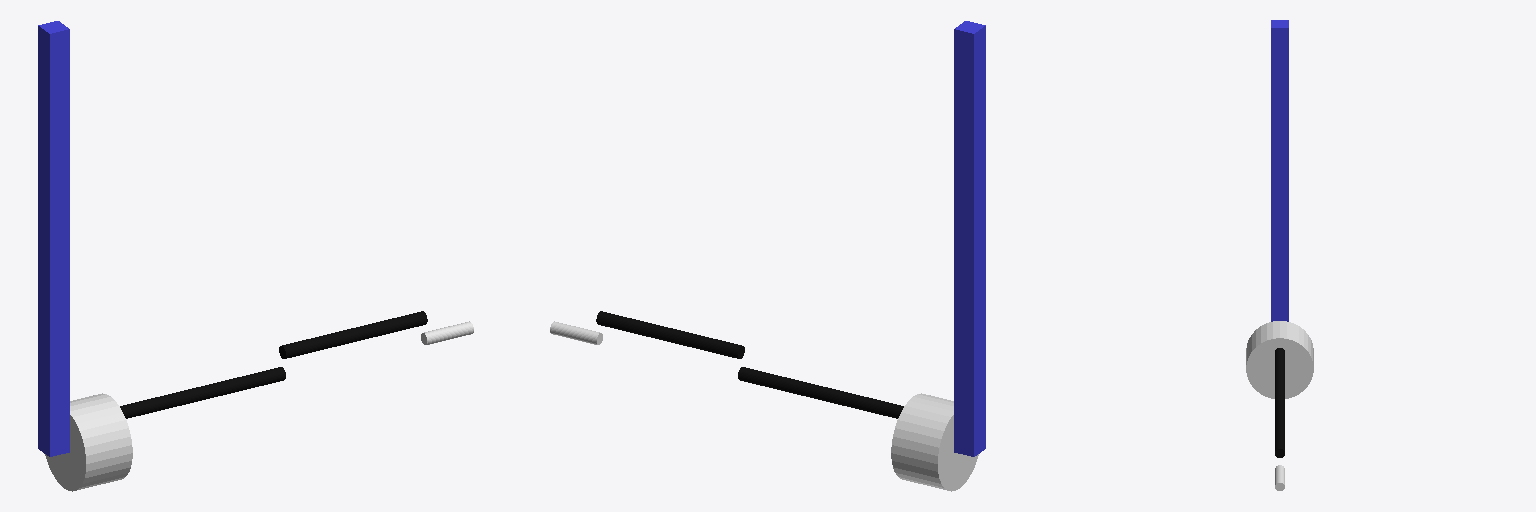
The robot description file, URDF, robot "test_setup1":
<?xml version="1.0" ?>
<!-- =================================================================================== -->
<!-- |    This document was autogenerated by xacro from test_setup2.urdf.xacro         | -->
<!-- |    EDITING THIS FILE BY HAND IS NOT RECOMMENDED                                 | -->
<!-- =================================================================================== -->
<robot name="test_setup1" xmlns:xacro="http://www.ros.org/wiki/xacro">
  <link name="base_link"/>
  <link name="frame">
    <visual>
      <geometry>
        <box size="0.050 0.050 1.0"/>
      </geometry>
      <origin rpy="0 0 0" xyz="-0.025 0 0.5"/>
      <material name="steel">
        <color rgba="0.3 0.3 0.9 1"/>
      </material>
    </visual>
    <collision>
      <geometry>
        <box size="0.055 0.055 1.005"/>
      </geometry>
      <origin rpy="0 0 0" xyz="-0.025 0 0.5"/>
    </collision>
  </link>
  <link name="dummy"/>
  <joint name="base_link_joint" type="fixed">
    <parent link="base_link"/>
    <child link="frame"/>
  </joint>
  <joint name="base_joint" type="prismatic">
    <parent link="frame"/>
    <child link="dummy"/>
    <origin rpy="0 0 0" xyz="0 0 0"/>
    <axis xyz="0 0 1"/>
    <limit effort="1000.0" lower="0" upper="1.0" velocity="0.5"/>
  </joint>
  <create/>
  <link name="base">
    <visual>
      <geometry>
        <cylinder length="0.115" radius="0.095"/>
      </geometry>
      <origin rpy="0 1.57079632679 0" xyz="0.0575 0 0"/>
      <material name="aluminium">
        <color rgba="0.9 0.9 0.9 1"/>
      </material>
    </visual>
    <collision>
      <geometry>
        <cylinder length="0.0575" radius="0.1"/>
      </geometry>
      <origin rpy="0 1.57079632679 0" xyz="0.115 0 0"/>
    </collision>
  </link>
  <link name="arm">
    <visual>
      <geometry>
        <cylinder length="0.425" radius="0.015"/>
      </geometry>
      <origin rpy="0 1.57079632679 0" xyz="0.2125 0 0"/>
      <material name="carbon">
        <color rgba="0.1 0.1 0.1 1"/>
      </material>
    </visual>
    <collision>
      <geometry>
        <cylinder length="0.425" radius="0.02"/>
      </geometry>
      <origin rpy="0 1.57079632679 0" xyz="0.2125 0 0"/>
    </collision>
  </link>
  <link name="fore_arm">
    <visual>
      <geometry>
        <cylinder length="0.35" radius="0.015"/>
      </geometry>
      <origin rpy="0 1.57079632679 0" xyz="0.175 0 0"/>
      <material name="carbon"/>
    </visual>
    <collision>
      <geometry>
        <cylinder length="0.35" radius="0.02"/>
      </geometry>
      <origin rpy="0 1.57079632679 0" xyz="0.175 0 0"/>
    </collision>
  </link>
  <link name="effector">
    <visual>
      <geometry>
        <cylinder length="0.115" radius="0.014"/>
      </geometry>
      <origin rpy="0 1.57079632679 0" xyz="0.0575 0 0"/>
      <material name="aluminium"/>
    </visual>
    <collision>
      <geometry>
        <cylinder length="0.115" radius="0.019"/>
      </geometry>
      <origin rpy="0 1.57079632679 0" xyz="0.0575 0 0"/>
    </collision>
  </link>
  <link name="tool0"/>
  <joint name="mounting" type="fixed">
    <parent link="dummy"/>
    <child link="base"/>
  </joint>
  <joint name="shoulder" type="revolute">
    <parent link="base"/>
    <child link="arm"/>
    <origin rpy="0 0 0" xyz="0.115 0 0.05"/>
    <axis xyz="0 0 1"/>
    <limit effort="1000.0" lower="-2.35619449019" upper="2.35619449019" velocity="0.5"/>
  </joint>
  <joint name="elbow" type="revolute">
    <parent link="arm"/>
    <child link="fore_arm"/>
    <origin rpy="0 0 0" xyz="0.425 0 0.05"/>
    <axis xyz="0 0 1"/>
    <limit effort="1000.0" lower="-2.98" upper="2.98" velocity="0.5"/>
  </joint>
  <joint name="wrist" type="revolute">
    <parent link="fore_arm"/>
    <child link="effector"/>
    <origin rpy="0 0 0" xyz="0.35 0 -0.05"/>
    <axis xyz="0 0 1"/>
    <limit effort="1000.0" lower="-2.98" upper="2.98" velocity="0.5"/>
  </joint>
  <joint name="joint_tool" type="fixed">
    <parent link="effector"/>
    <child link="tool0"/>
    <origin rpy="0 0 0" xyz="0 0 0"/>
  </joint>
</robot>

--- Facts derived from the render (not from the file) ---
Views: 3 orthographic renders of the robot side by side, from view 1: azimuth 30°, elevation 25°; view 2: azimuth 150°, elevation 25°; view 3: azimuth 270°, elevation 25°.
Model test_setup1 with 8 links and 7 joints (3 revolute, 1 prismatic, 3 fixed), rooted at base_link, posed all joints at 0.
Visible links, largest first — view 1: frame, base, arm, fore_arm, effector; view 2: frame, base, arm, fore_arm, effector; view 3: frame, base, fore_arm.
Boxes of the visible links, bbox=[...] form: frame: bbox=[38, 21, 69, 456]; base: bbox=[45, 393, 132, 491]; arm: bbox=[120, 367, 285, 418]; fore_arm: bbox=[279, 311, 427, 358]; effector: bbox=[421, 321, 473, 344]; frame: bbox=[954, 21, 985, 456]; base: bbox=[891, 393, 978, 491]; arm: bbox=[738, 367, 903, 418]; fore_arm: bbox=[596, 311, 744, 358]; effector: bbox=[550, 321, 602, 344]; frame: bbox=[1271, 20, 1288, 321]; base: bbox=[1246, 321, 1313, 398]; fore_arm: bbox=[1275, 396, 1284, 457].
Bounding box of the posed robot: 1.05 × 0.19 × 1.09 m (x, y, z).
Geometry: primitives only (box / cylinder / sphere), no mesh files.